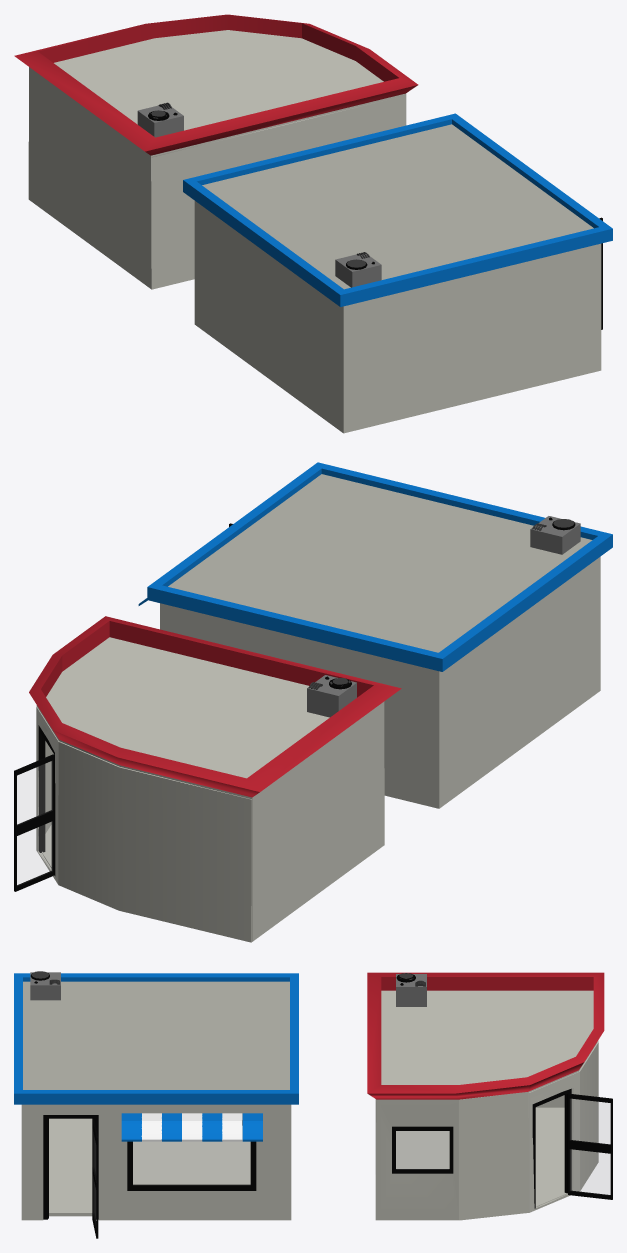
File: lowpoly_store.glb
The picture shows the model from 3 angles, top to bottom: view 1: azimuth 30°, elevation 25°; view 2: azimuth 150°, elevation 25°; view 3: azimuth 270°, elevation 25°; orthographic projection. The views are drawn at different scales.
Visible parts, largest first — view 1: Object_3; view 2: Object_3, Object_2; view 3: Object_3, Object_2.
Boxes of the visible parts, x1,y1,x2,y2 form: Object_3: (14, 14, 612, 433); Object_3: (14, 462, 612, 942); Object_2: (17, 761, 51, 884); Object_3: (14, 971, 612, 1238); Object_2: (94, 1099, 609, 1217).
Bounding box in the file's own units: 5.83 × 2.86 × 10.84.
Materials: 2 (1 with a texture image).
